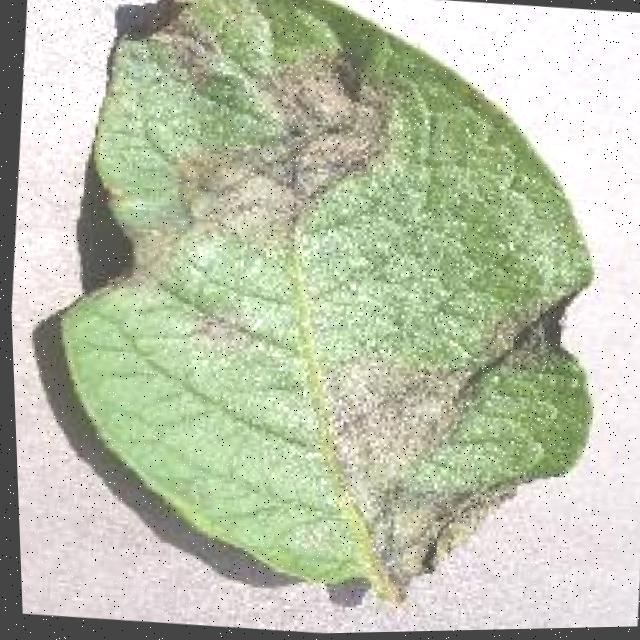Late_blight: (280, 250, 614, 598), (171, 31, 413, 261), (167, 272, 279, 379)
